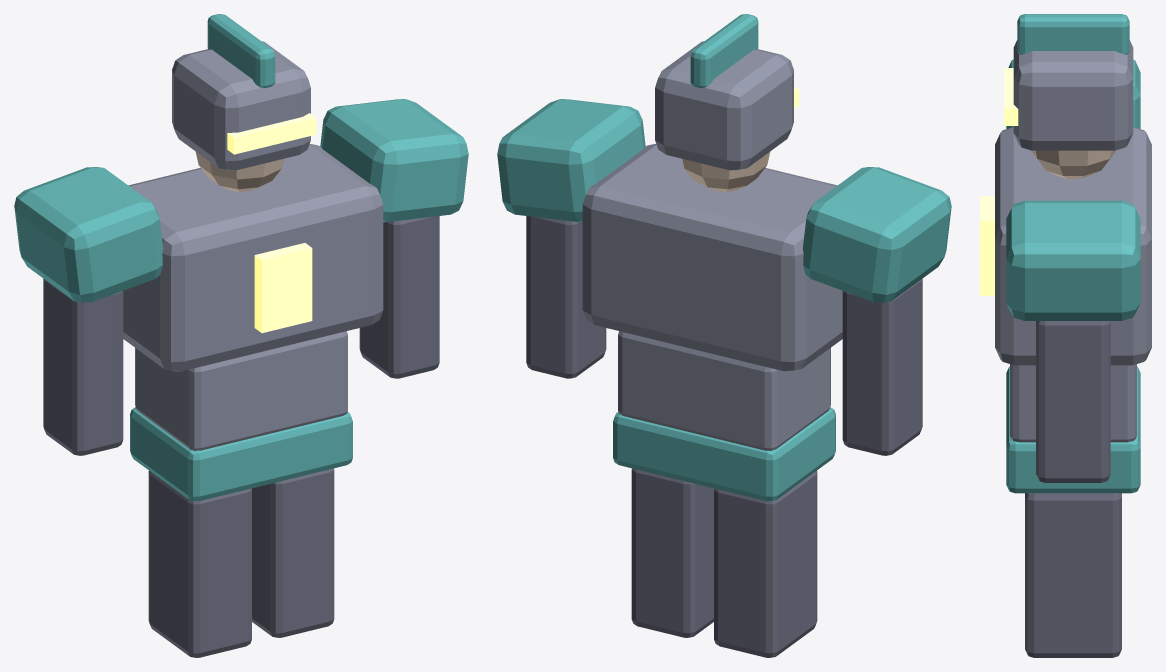
The model's file is player_runebreaker.glb.
3 views of the same model, side by side, from view 1: azimuth 30°, elevation 25°; view 2: azimuth 150°, elevation 25°; view 3: azimuth 270°, elevation 25° (orthographic). The views are drawn at different scales.
Visible parts, largest first — view 1: player_runebreaker; view 2: player_runebreaker; view 3: player_runebreaker.
Boxes of the visible parts, box(x1,y1,x2,y2) form: player_runebreaker: box(14, 14, 468, 657); player_runebreaker: box(497, 14, 951, 657); player_runebreaker: box(980, 14, 1151, 657).
Bounding box in the file's own units: 1.27 × 1.8 × 0.46.
